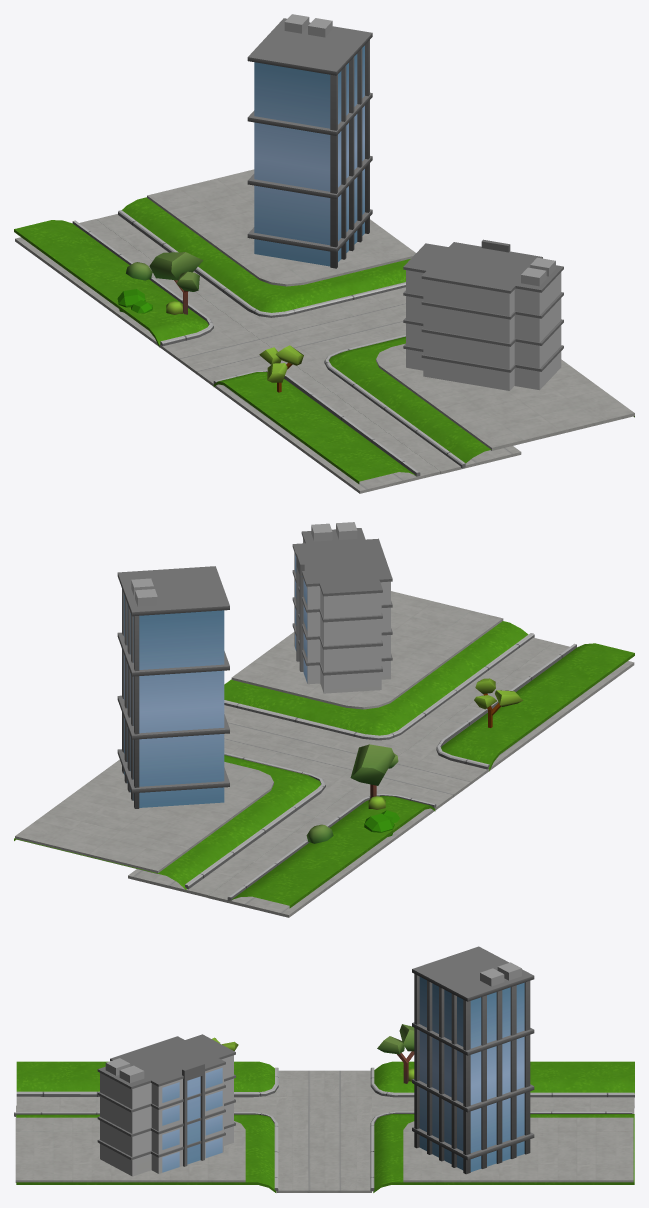
File: Level 3 Chunk 5 V2.fbx
The picture shows the model from 3 angles, top to bottom: view 1: azimuth 30°, elevation 25°; view 2: azimuth 150°, elevation 25°; view 3: azimuth 270°, elevation 25°; orthographic projection. The views are drawn at different scales.
Visible parts, largest first — view 1: Building_A37, Building_C27, pCube9426, pCube9436, pCube9440, pCube9430, pCube9427, pCube9434, pCube9433, pCube9425, pCube9429, polySurface30 (+4 smaller); view 2: Building_A37, Building_C27, pCube9430, pCube9426, pCube9436, pCube9440, pCube9425, pCube9433, pCube9434, pCube9427, pCube9428, polySurface30 (+4 smaller); view 3: Building_A37, Building_C27, pCube9426, pCube9430, pCube9440, pCube9436, pCube9434, pCube9433, pCube9427, pCube9425, pCube9432, polySurface30 (+3 smaller).
Boxes of the visible parts, <box> form: Building_A37: <box>247,14,372,268</box>; Building_C27: <box>403,239,563,390</box>; pCube9426: <box>96,214,521,474</box>; pCube9436: <box>15,219,440,493</box>; pCube9440: <box>376,344,634,450</box>; pCube9430: <box>147,169,415,286</box>; pCube9427: <box>122,197,410,312</box>; pCube9434: <box>14,220,208,347</box>; pCube9433: <box>213,372,415,483</box>; pCube9425: <box>329,336,634,463</box>; pCube9429: <box>118,210,405,317</box>; polySurface30: <box>149,252,203,314</box>; Building_A37: <box>117,566,229,808</box>; Building_C27: <box>292,522,392,693</box>; pCube9430: <box>15,759,273,873</box>; pCube9426: <box>128,637,553,897</box>; pCube9436: <box>208,643,634,917</box>; pCube9440: <box>231,591,503,709</box>; pCube9425: <box>224,621,528,735</box>; pCube9433: <box>441,643,634,771</box>; pCube9434: <box>232,795,435,908</box>; pCube9427: <box>14,755,320,889</box>; pCube9428: <box>224,633,534,740</box>; polySurface30: <box>350,744,398,798</box>; Building_A37: <box>412,946,534,1174</box>; Building_C27: <box>97,1034,235,1176</box>; pCube9426: <box>16,1105,634,1192</box>; pCube9430: <box>403,1117,633,1182</box>; pCube9440: <box>15,1117,245,1182</box>; pCube9436: <box>16,1070,634,1107</box>; pCube9434: <box>374,1061,634,1093</box>; pCube9433: <box>16,1061,274,1091</box>; pCube9427: <box>373,1114,634,1192</box>; pCube9425: <box>16,1114,276,1192</box>; pCube9432: <box>370,1067,634,1097</box>; polySurface30: <box>377,1024,414,1083</box>.
Size of the model in its own units: 12.26 by 9.41 by 26.67.
2 materials, 2 textured.
